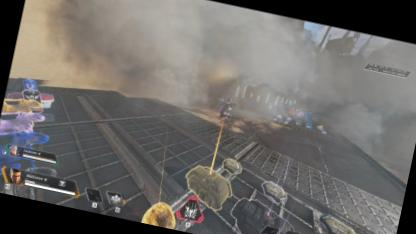Target: (217, 94, 236, 120)
